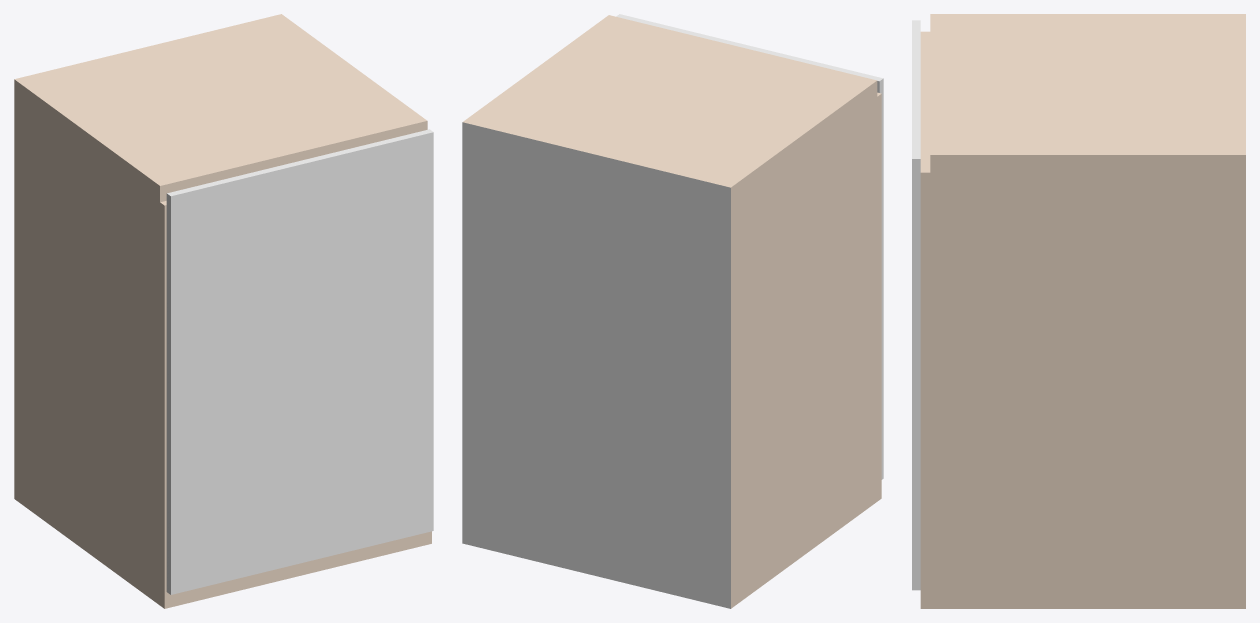
File: KTCH_ELIX_Cabinet_60_60_90.FBX
3 views of the same model, side by side, from view 1: azimuth 30°, elevation 25°; view 2: azimuth 150°, elevation 25°; view 3: azimuth 270°, elevation 25° (orthographic). The views are drawn at different scales.
Parts seen in each view (by area): view 1: KTCH_ELIX_Cabinet_60_60_90; view 2: KTCH_ELIX_Cabinet_60_60_90; view 3: KTCH_ELIX_Cabinet_60_60_90.
Part boxes in pixels (x1,y1,x2,y2): KTCH_ELIX_Cabinet_60_60_90: [14, 14, 433, 608]; KTCH_ELIX_Cabinet_60_60_90: [462, 14, 883, 608]; KTCH_ELIX_Cabinet_60_60_90: [912, 14, 1245, 608].
Size of the model in its own units: 60 by 60 by 90.
